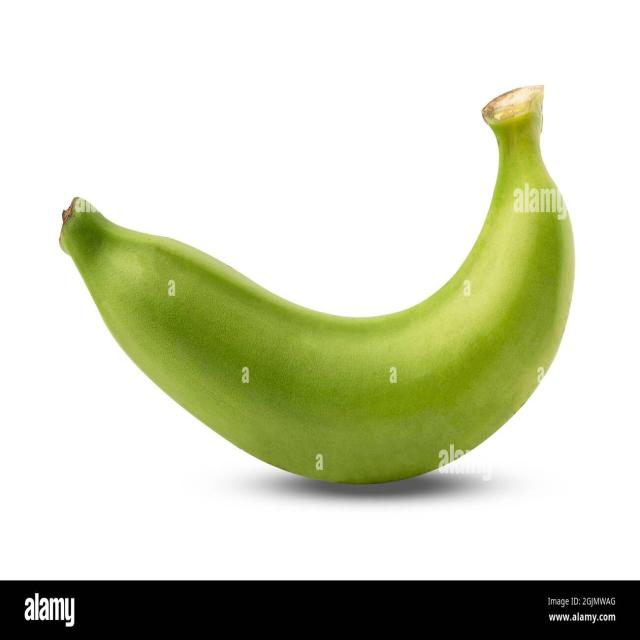non_orange: (57, 83, 578, 492)
